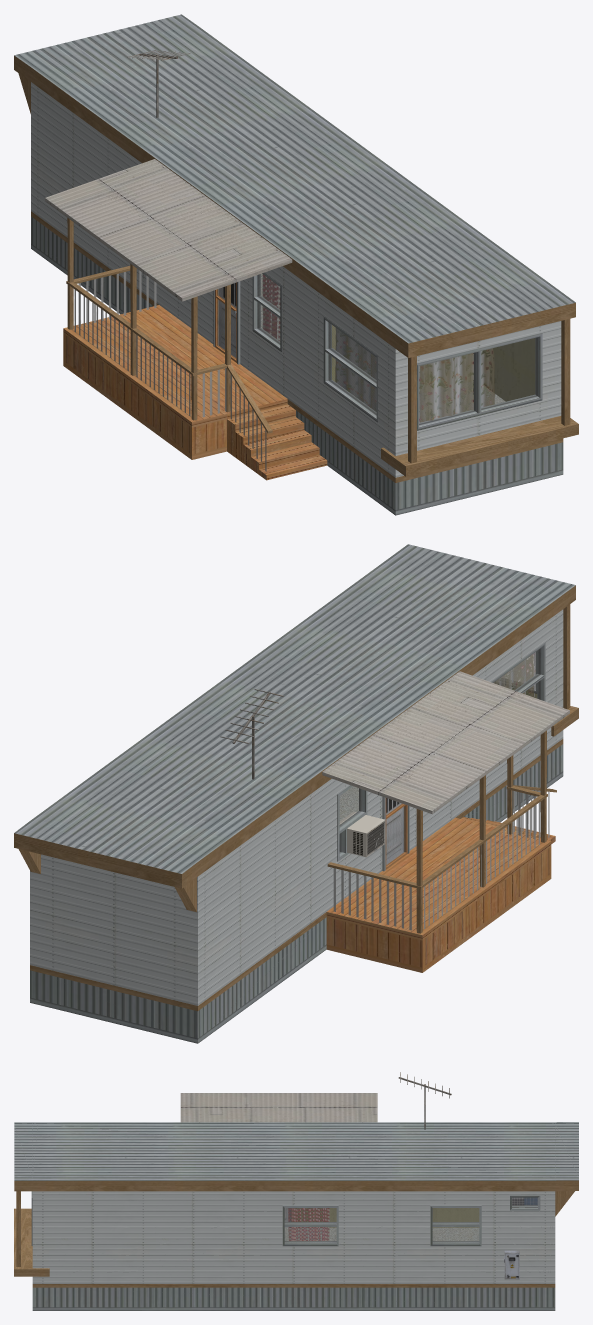
Rendered from trailer_04.glb.
3 renders of one model, top to bottom at view 1: azimuth 30°, elevation 25°; view 2: azimuth 150°, elevation 25°; view 3: azimuth 270°, elevation 25°, orthographic. The views are drawn at different scales.
Visible parts, largest first — view 1: Home_05, RoofingPlates, railing_03, Mesh_37, Curtain_01.008, Mesh_36, Frame_Windows_38, Curtain_01.007, Frame_Windows_37, Mesh_35, Door_Mesh.003, Frame_Windows_36 (+2 smaller); view 2: Home_05, RoofingPlates, railing_03, Door_Mesh.003, air-conditioning.003, Mesh_36, Door.003, Frame_Windows_35, Frame_Windows_37, Curtain_01.007, Antenna_02.002, Mesh_34; view 3: Home_05, RoofingPlates, Mesh_38, Mesh_39, Curtain.008, Frame_Windows_39, Frame_Windows_40, Fuse_box.005.
Boxes of the visible parts, bbox=[...] form: Home_05: bbox=[14, 14, 578, 515]; RoofingPlates: bbox=[45, 159, 292, 301]; railing_03: bbox=[66, 218, 272, 471]; Mesh_37: bbox=[419, 337, 537, 424]; Curtain_01.008: bbox=[419, 348, 494, 422]; Mesh_36: bbox=[328, 322, 376, 415]; Frame_Windows_38: bbox=[417, 333, 542, 430]; Curtain_01.007: bbox=[335, 328, 376, 411]; Frame_Windows_37: bbox=[323, 316, 377, 422]; Mesh_35: bbox=[257, 274, 279, 344]; Door_Mesh.003: bbox=[215, 282, 236, 362]; Frame_Windows_36: bbox=[252, 272, 281, 351]; Home_05: bbox=[14, 544, 578, 1043]; RoofingPlates: bbox=[322, 671, 569, 814]; railing_03: bbox=[327, 730, 556, 933]; Door_Mesh.003: bbox=[385, 798, 407, 869]; air-conditioning.003: bbox=[339, 811, 385, 857]; Mesh_36: bbox=[494, 648, 540, 699]; Door.003: bbox=[386, 798, 403, 864]; Frame_Windows_35: bbox=[337, 785, 367, 861]; Frame_Windows_37: bbox=[491, 642, 545, 701]; Curtain_01.007: bbox=[494, 654, 533, 696]; Antenna_02.002: bbox=[220, 689, 283, 779]; Mesh_34: bbox=[340, 786, 361, 853]; Home_05: bbox=[14, 1122, 578, 1310]; RoofingPlates: bbox=[180, 1093, 377, 1122]; Mesh_38: bbox=[285, 1208, 336, 1242]; Mesh_39: bbox=[433, 1208, 478, 1242]; Curtain.008: bbox=[288, 1208, 329, 1240]; Frame_Windows_39: bbox=[282, 1205, 338, 1246]; Frame_Windows_40: bbox=[430, 1205, 481, 1246]; Fuse_box.005: bbox=[504, 1250, 519, 1279].
Bounding box in the file's own units: 6.46 × 5.65 × 15.25.
18 materials, 18 textured.
